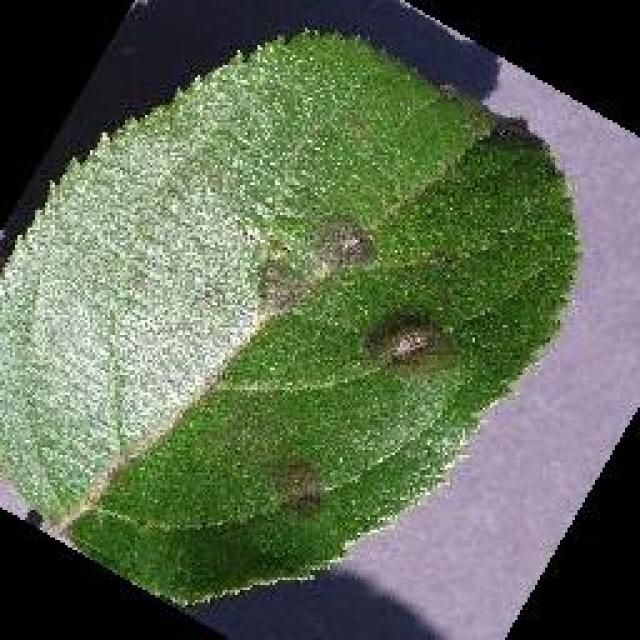apple scab disease: (0, 22, 582, 607)
